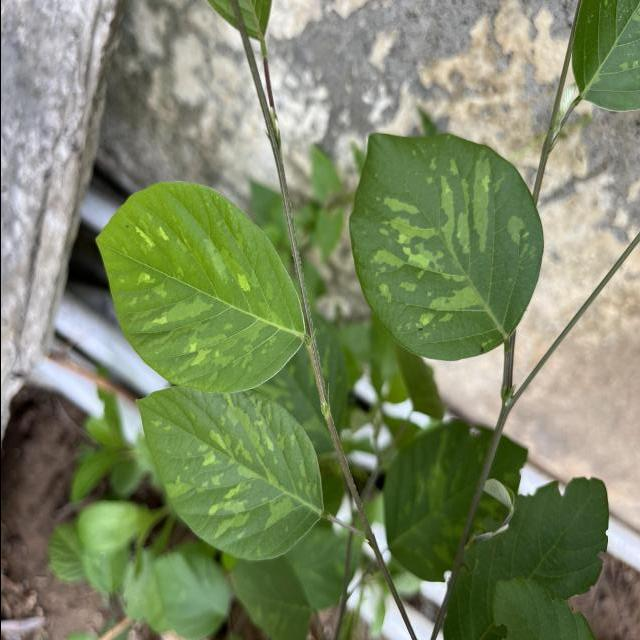Desmodium gangeticum: (346, 128, 546, 365), (92, 178, 307, 396), (132, 380, 326, 565)
